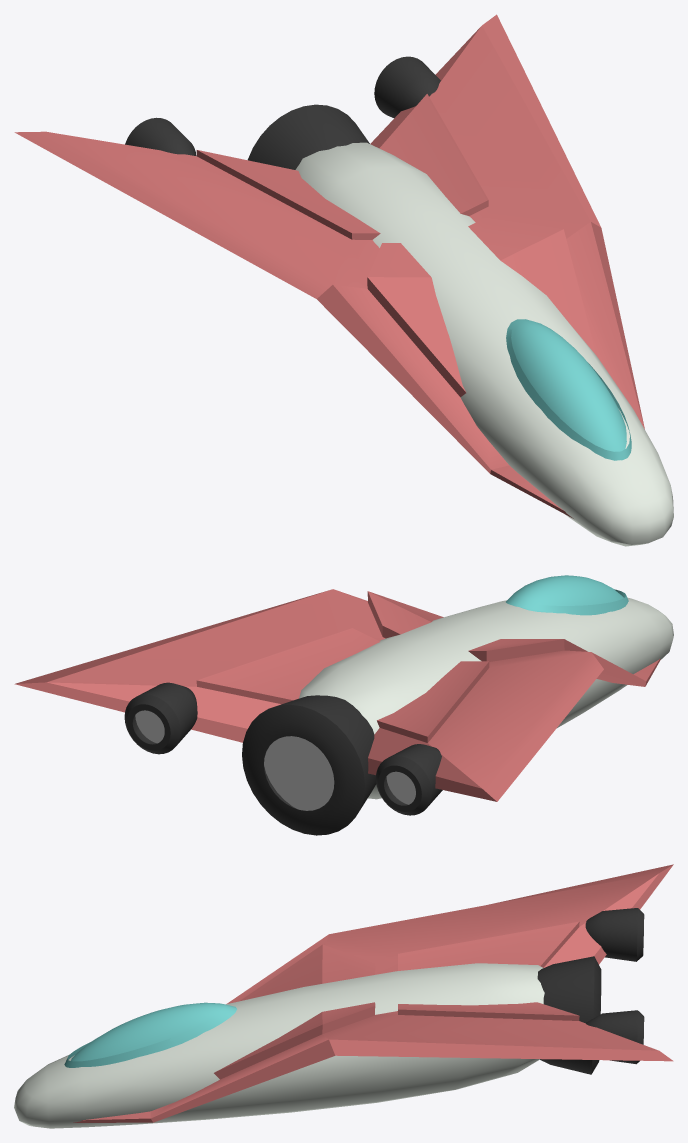
Rendered from MAIN SHIP.fbx.
The picture shows the model from 3 angles, top to bottom: view 1: azimuth 30°, elevation 25°; view 2: azimuth 150°, elevation 25°; view 3: azimuth 270°, elevation 25°; orthographic projection. The views are drawn at different scales.
Parts seen in each view (by area): view 1: Cube.001, Cube, Cube.002, Cube.003; view 2: Cube.001, Cube.003, Cube, Cube.002; view 3: Cube.001, Cube, Cube.003, Cube.002.
Boxes of the visible parts, x1,y1,x2,y2 form: Cube.001: (14,14,644,518); Cube: (295,142,673,546); Cube.002: (506,319,631,460); Cube.003: (125,56,440,169); Cube.001: (14,589,660,801); Cube.003: (124,682,442,835); Cube: (299,597,673,799); Cube.002: (506,575,628,615); Cube.001: (73,864,673,1122); Cube: (14,963,544,1128); Cube.003: (537,908,644,1074); Cube.002: (64,1002,236,1067).
Bounding box in the file's own units: 868 × 331 × 1230.
